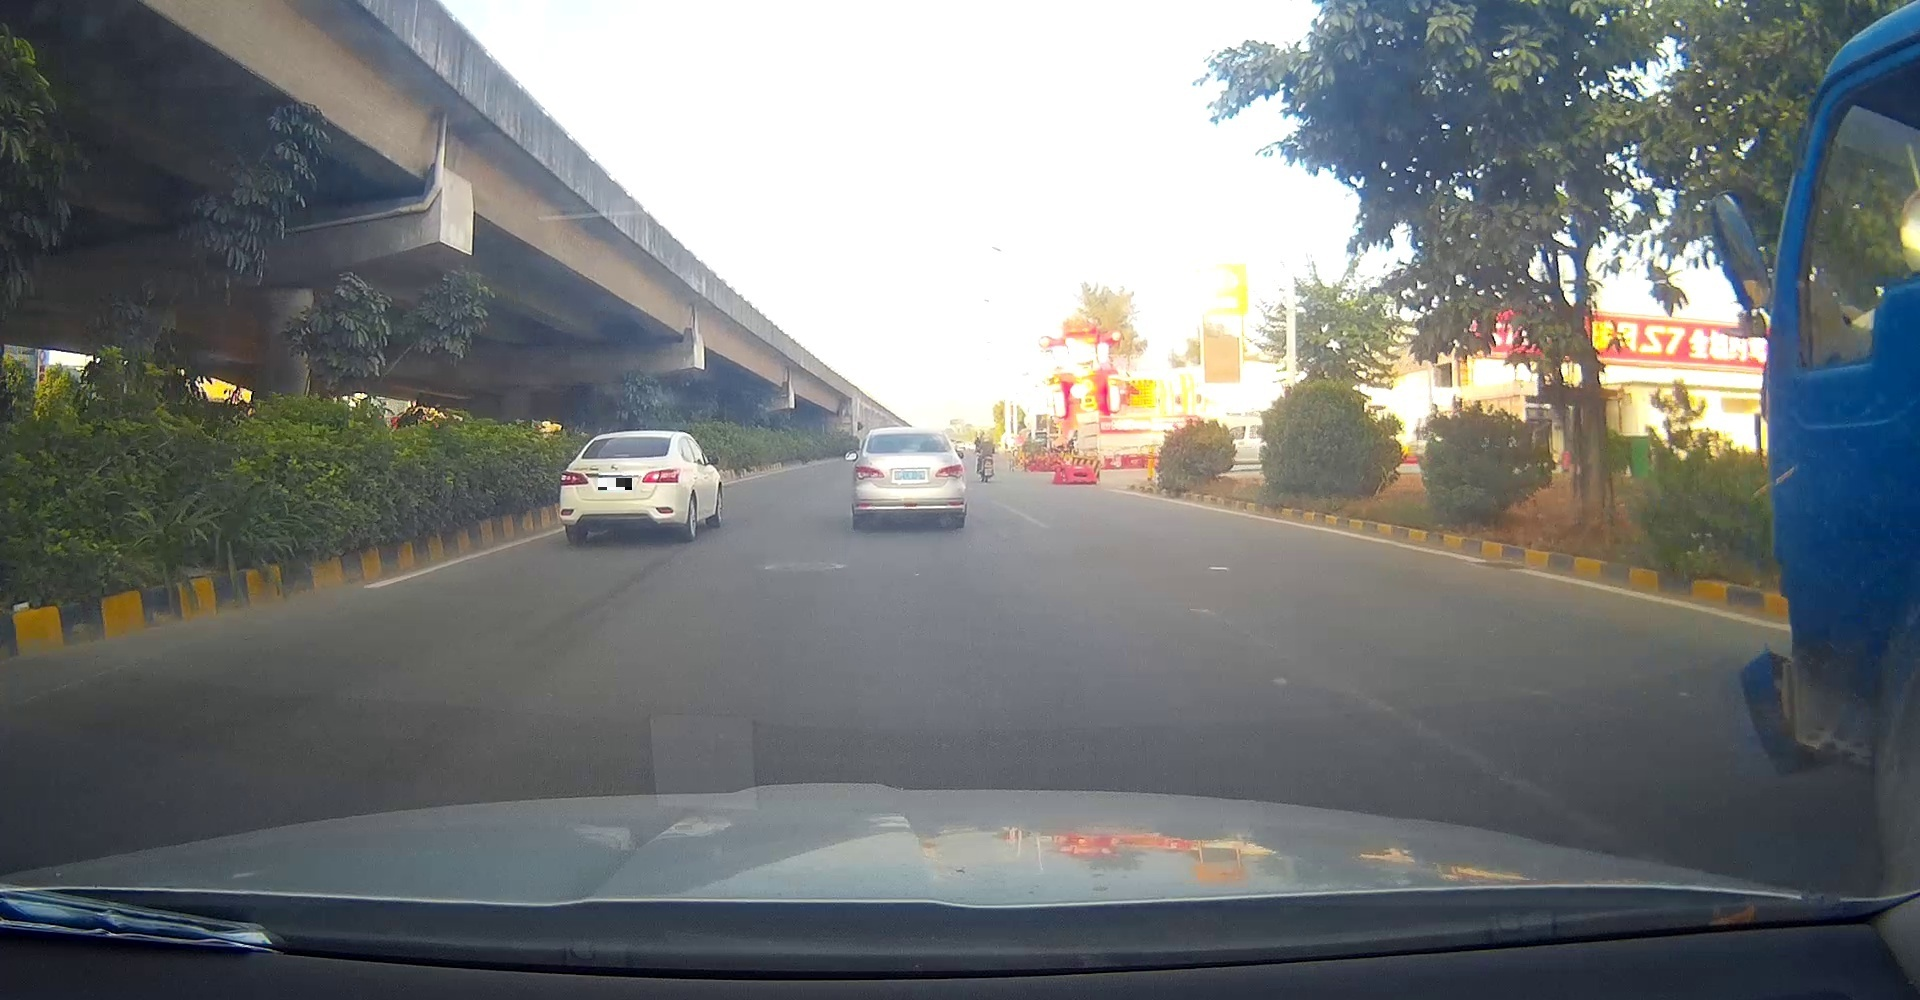L_light: (855, 464, 885, 480), (560, 471, 589, 485)
R_light: (643, 468, 681, 484), (935, 463, 964, 478)
T_light: (615, 453, 630, 457), (900, 449, 916, 453)
day-no: (560, 430, 681, 542), (852, 426, 966, 529)
plate_1: (598, 478, 632, 490)
